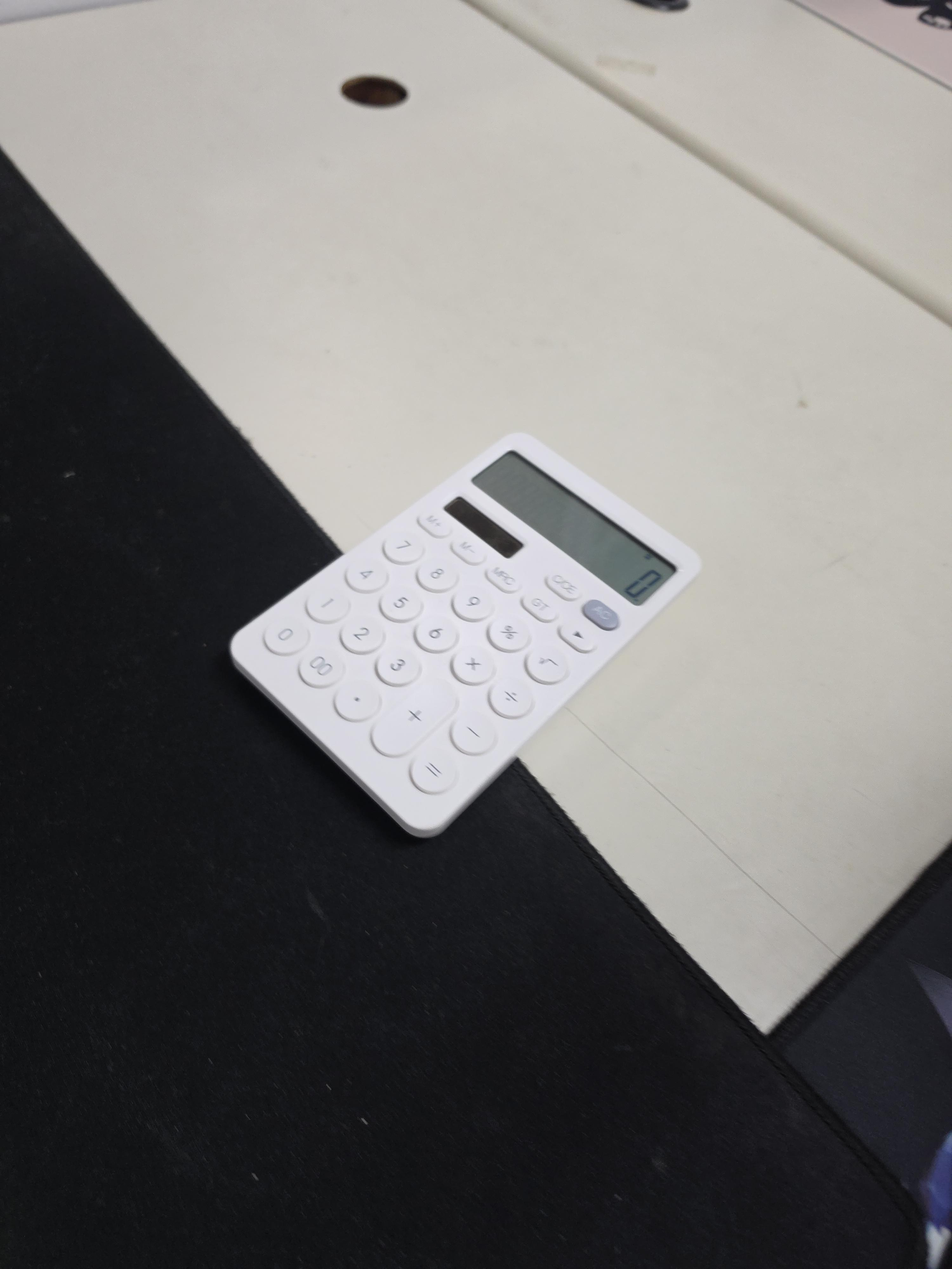calculator: (229, 432, 704, 838)
